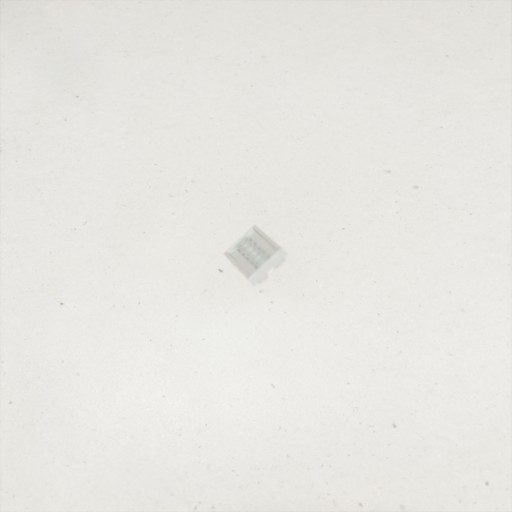lego: (223, 224, 289, 287)
